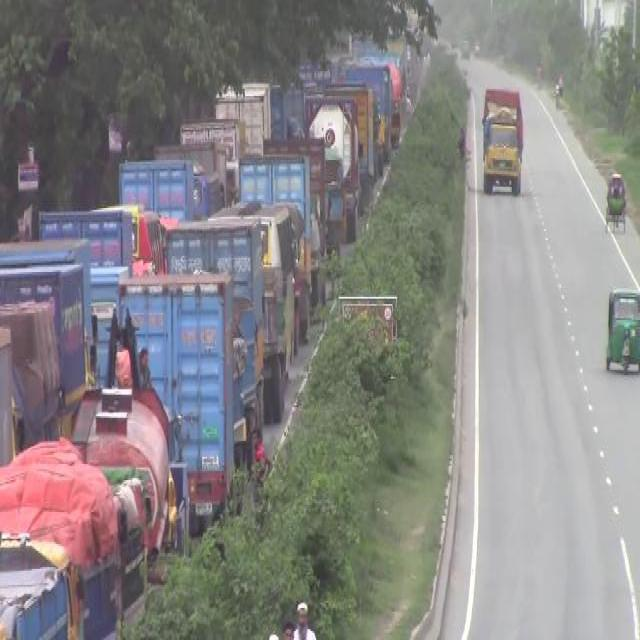pickup: (121, 275, 236, 525), (358, 86, 374, 206)
rickshaw: (604, 172, 626, 233)
three wheelers -CNG-: (606, 287, 638, 374)
truck: (247, 215, 283, 421), (234, 294, 266, 463), (482, 84, 522, 193), (340, 96, 358, 242), (375, 63, 391, 175)
